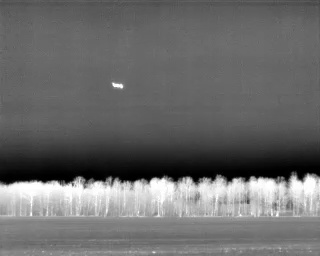DRONE: (108, 78, 127, 93)
